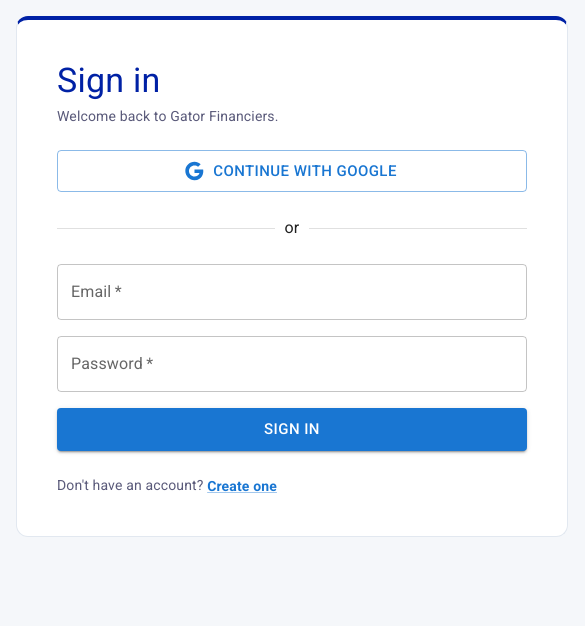
Test: LoginPage › switches to sign-up mode and rejects short passwords client-side
Step 1. Click the button "Create one" → coordinates (242, 486), box [207, 476, 277, 496]
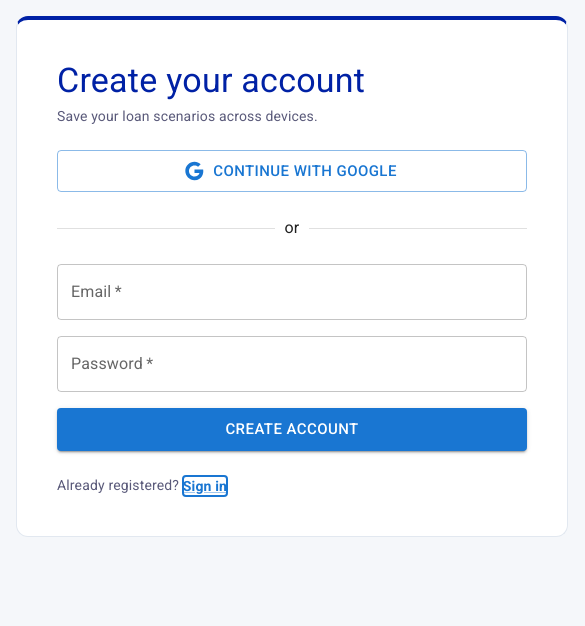
Expected: the heading "Create your account" is shown, [57, 60, 365, 100]
Step 2. Type "new@example.com" into the field labelled "Email *" → coordinates (292, 292), box [57, 264, 527, 320]
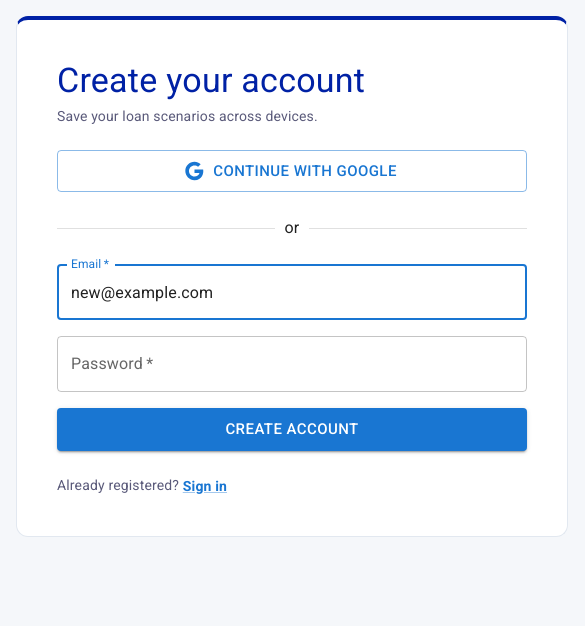
Step 3. Type "123" into the password field labelled "Password *" → coordinates (292, 364), box [57, 336, 527, 392]
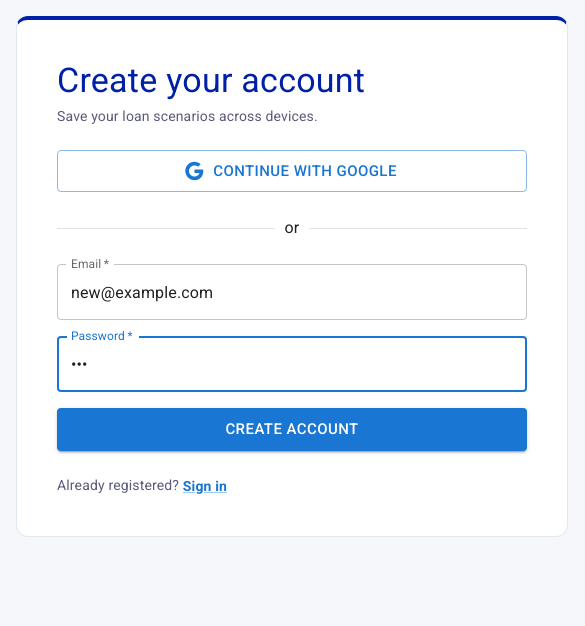
Step 4. Click the button "Create account" → coordinates (292, 429), box [57, 408, 527, 451]
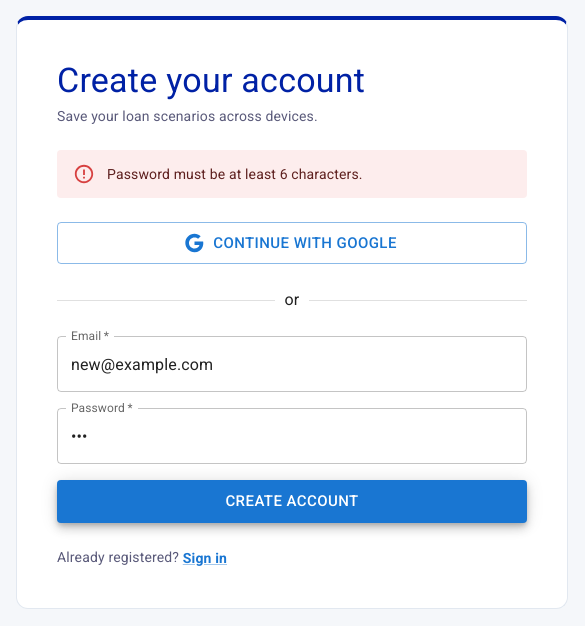
Expected: the text "Password must be at least 6 characters." is shown, [107, 166, 363, 182]
